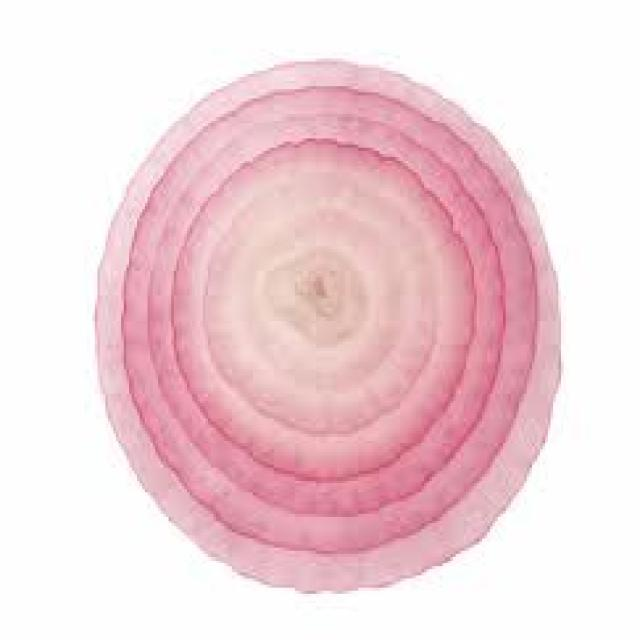onion: (87, 46, 558, 585)
